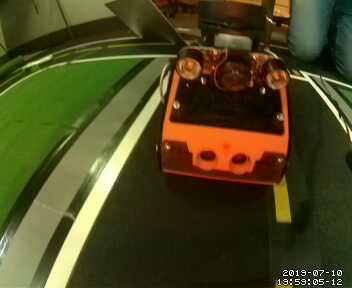pheeno: (160, 3, 289, 185)
